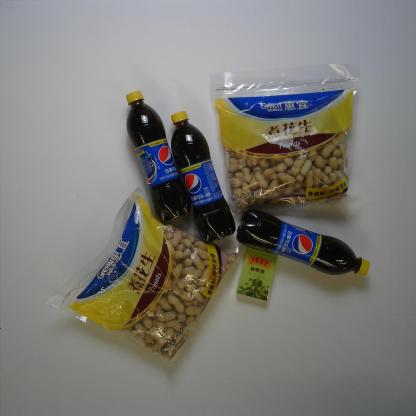Candy: (235, 245, 279, 302)
Dried Food: (45, 186, 245, 376), (207, 62, 364, 215)
Drink: (236, 208, 371, 277), (170, 110, 236, 244), (126, 90, 192, 223)
